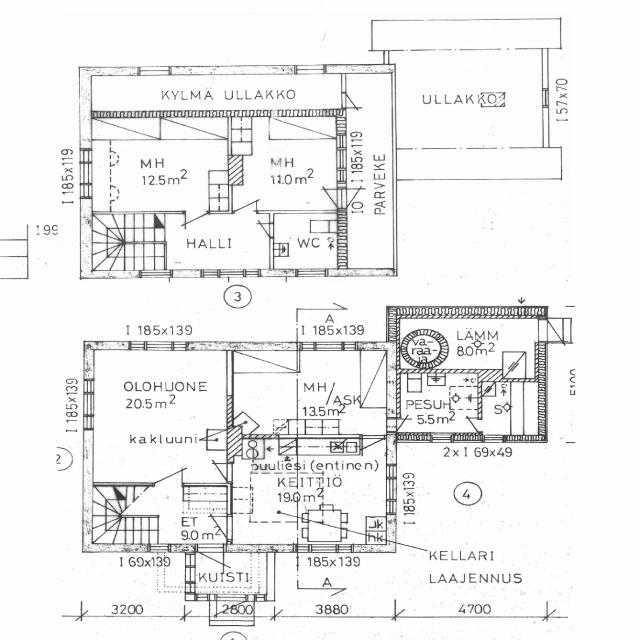door: (217, 594, 246, 626), (197, 544, 224, 574), (154, 459, 182, 486), (538, 320, 573, 341), (200, 517, 232, 539), (311, 188, 346, 208), (336, 188, 370, 208), (362, 435, 386, 458), (186, 211, 208, 233), (234, 192, 256, 214), (205, 464, 232, 481), (386, 418, 413, 432), (342, 93, 364, 108), (462, 418, 482, 432), (253, 224, 273, 237)
